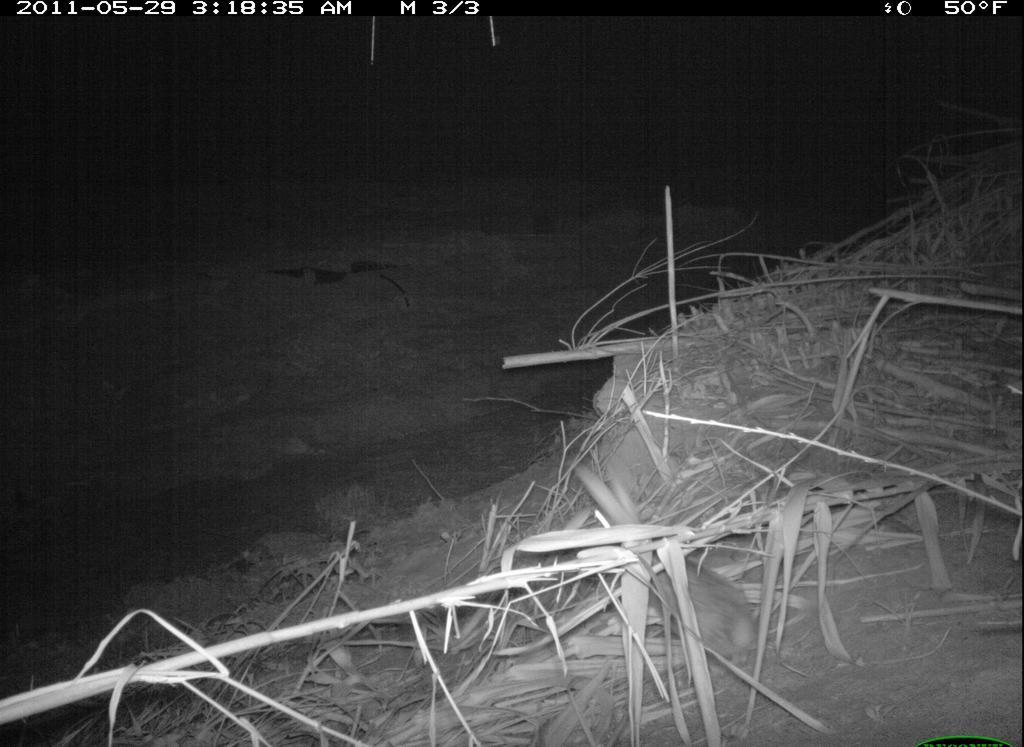rabbit: (638, 521, 772, 674)
